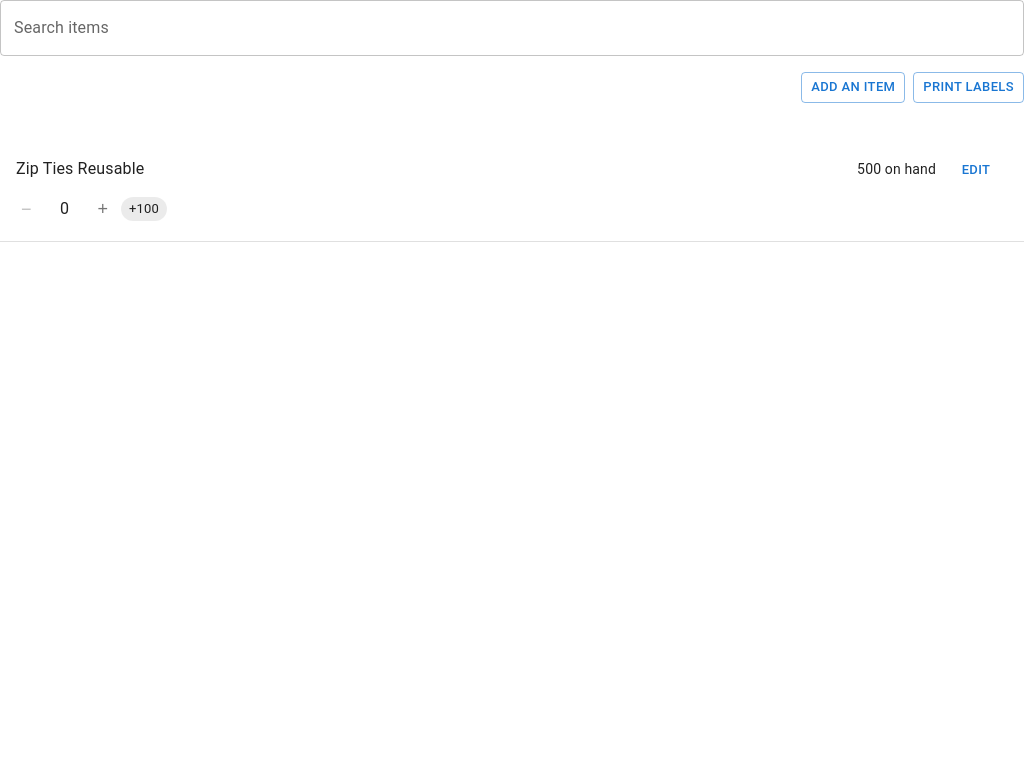
Test case: a category, made where an item is put in one › opens under the select without taking the item away
The image size is (1024, 768).
Check: the heading "Zip Ties Reusable" is shown, box [16, 155, 144, 183]
Step 1. Click the button "Add an item" → (853, 87), box [801, 72, 905, 103]
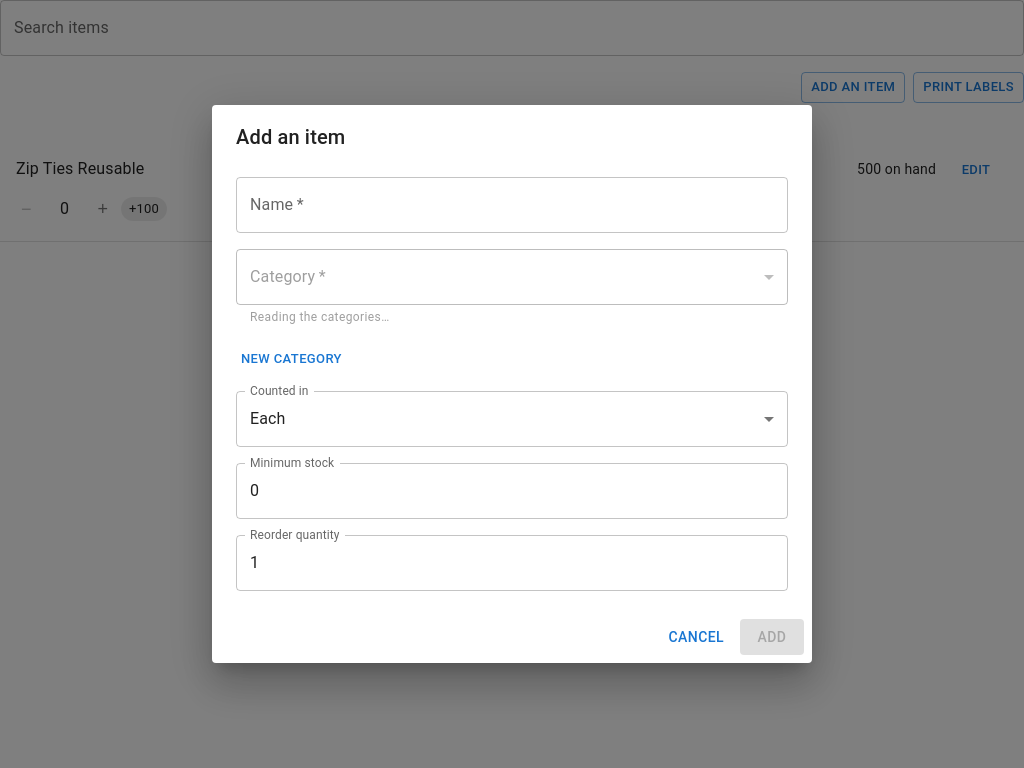
Step 2. Type "Grounding Wire" into the field labelled "Name *" → (512, 205), box [236, 177, 788, 233]
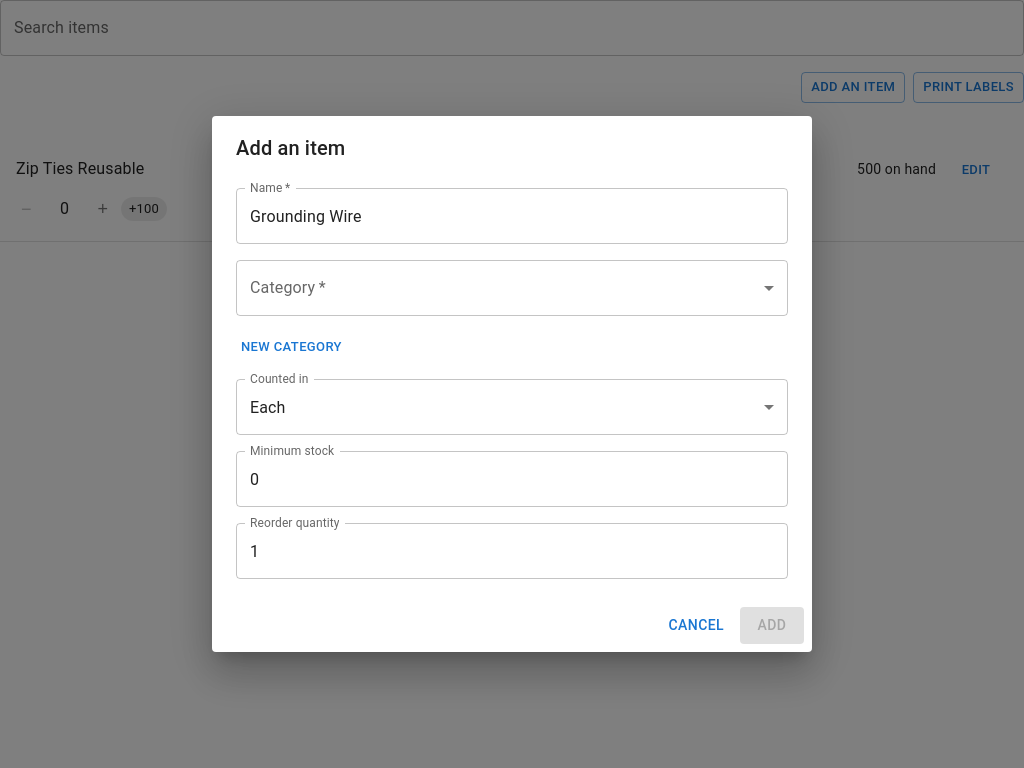
Step 3. Click the button "New category" → (291, 348), box [236, 332, 347, 363]
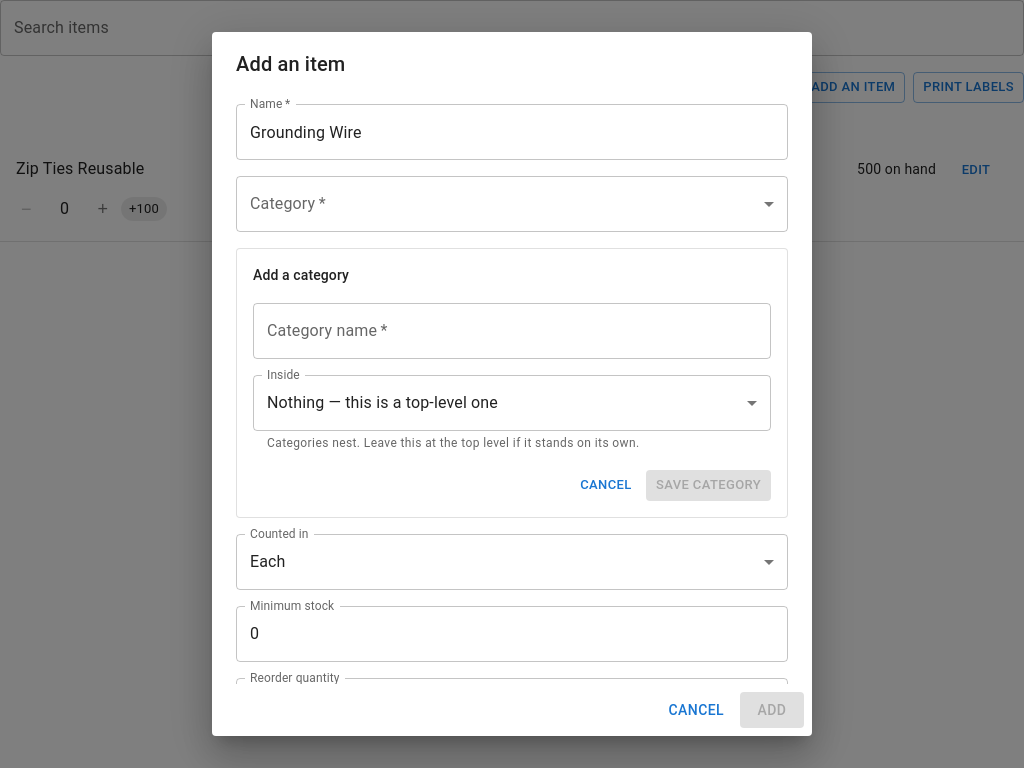
Check: the number of dialogs is 1, box [212, 32, 812, 736]
Check: the element "Add a category" is shown, box [236, 248, 788, 518]
